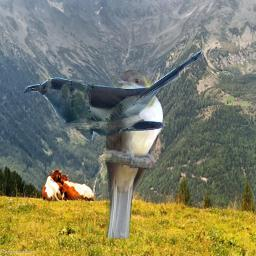Cuckoo: (24, 49, 209, 141), (102, 70, 163, 239)
